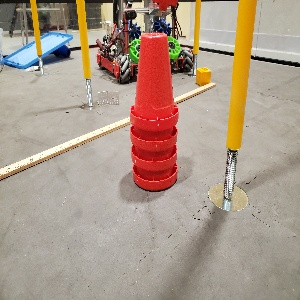Red_4: (124, 28, 181, 195)
